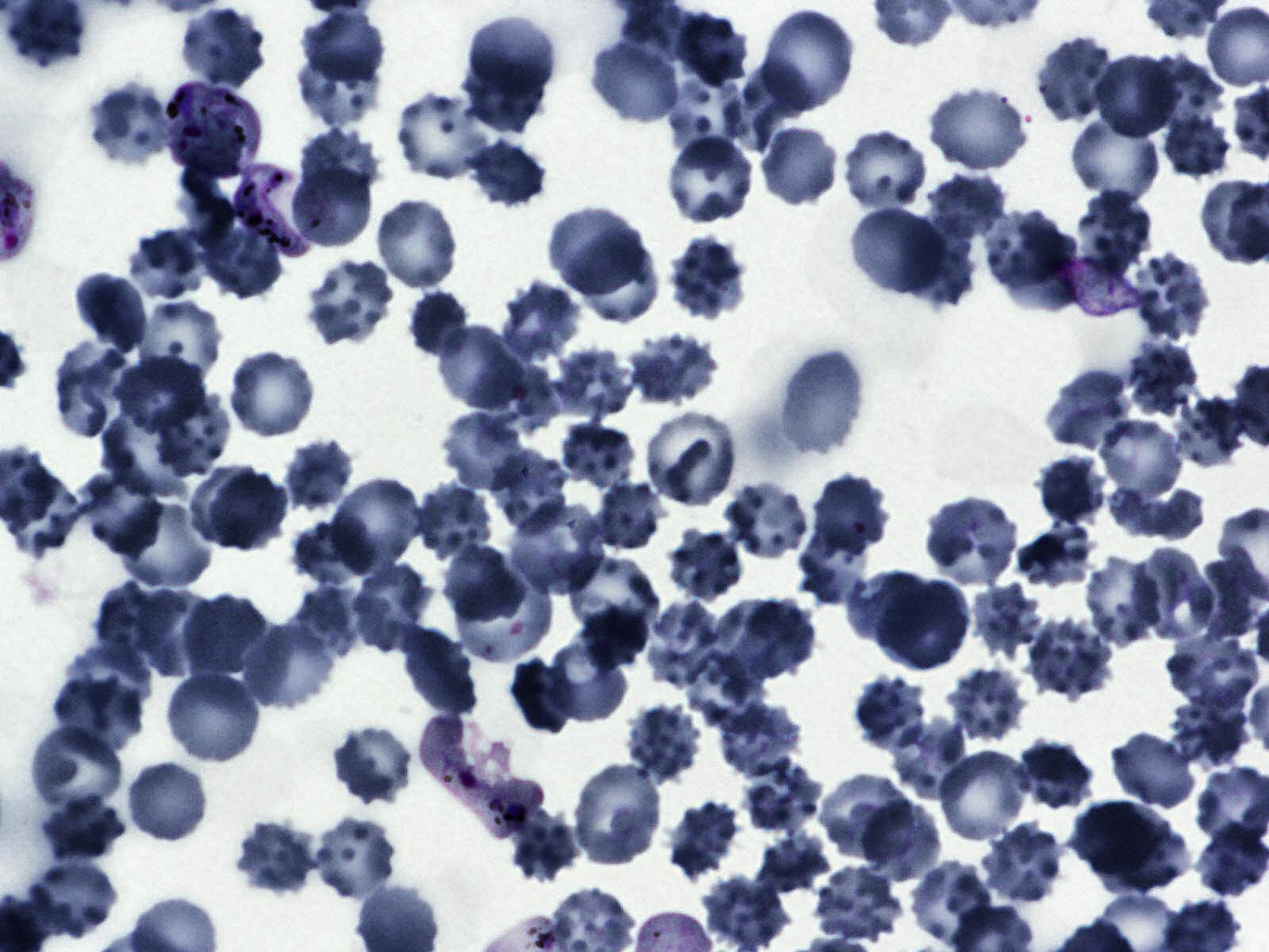Infected: (419, 714, 545, 839), (163, 80, 263, 180), (232, 159, 307, 261)
Uninfected: (757, 7, 858, 115), (568, 762, 668, 869), (934, 748, 1033, 846), (328, 476, 424, 574), (506, 499, 604, 595), (922, 495, 1022, 589), (1068, 109, 1164, 206), (848, 205, 947, 299), (241, 619, 336, 714), (454, 569, 550, 662), (223, 348, 320, 440), (778, 347, 862, 453), (550, 209, 647, 298), (926, 90, 1028, 174), (645, 412, 736, 505), (817, 771, 914, 858), (116, 504, 213, 590), (877, 581, 970, 670), (838, 129, 932, 217), (78, 466, 168, 557), (1078, 555, 1164, 650), (436, 322, 525, 413), (293, 43, 384, 132), (570, 553, 660, 642), (86, 82, 176, 170), (399, 92, 489, 180), (31, 727, 121, 815), (1130, 546, 1210, 644), (1072, 801, 1171, 880), (51, 342, 131, 439), (1166, 630, 1264, 709), (168, 675, 259, 760), (1045, 369, 1136, 454), (907, 862, 996, 948), (1127, 251, 1211, 342), (810, 866, 905, 946), (545, 636, 631, 724), (1091, 55, 1180, 140), (1023, 616, 1115, 698), (1034, 36, 1117, 126), (574, 234, 657, 324), (176, 6, 267, 88), (112, 356, 205, 436), (669, 135, 752, 224), (439, 412, 529, 494), (54, 675, 144, 757), (731, 60, 811, 152), (859, 800, 945, 885), (439, 543, 526, 627), (136, 587, 217, 677), (899, 212, 974, 309), (757, 124, 842, 209), (592, 39, 679, 122), (979, 826, 1068, 907), (184, 593, 268, 678), (100, 414, 186, 497), (888, 717, 970, 804), (151, 390, 232, 478), (27, 858, 117, 937), (1102, 414, 1181, 504), (289, 587, 389, 658), (475, 356, 558, 441), (489, 451, 570, 538), (1095, 821, 1187, 897), (666, 238, 749, 322), (295, 128, 381, 209), (685, 648, 765, 735), (378, 200, 456, 289), (498, 282, 583, 363), (810, 476, 891, 561), (139, 300, 220, 385), (232, 818, 319, 897), (472, 16, 559, 95), (98, 581, 168, 679), (196, 222, 288, 296), (309, 261, 392, 343), (670, 76, 746, 165), (627, 330, 717, 405), (355, 560, 433, 646), (849, 568, 932, 648), (723, 480, 807, 559), (551, 346, 637, 423), (188, 465, 275, 541), (700, 875, 787, 951), (1075, 191, 1156, 272), (715, 601, 797, 681), (1111, 730, 1194, 809), (464, 48, 543, 131), (293, 164, 371, 248), (207, 470, 287, 551), (1138, 55, 1225, 129), (413, 485, 493, 565), (1014, 738, 1096, 816), (70, 271, 148, 353), (126, 228, 209, 305), (738, 759, 822, 835), (944, 670, 1033, 741), (403, 624, 474, 713), (673, 8, 751, 89), (289, 518, 377, 589), (37, 793, 125, 864), (738, 601, 816, 681), (1006, 229, 1077, 316), (1123, 339, 1201, 418), (1169, 394, 1250, 470), (319, 818, 393, 901), (650, 601, 721, 687), (851, 675, 929, 753), (298, 10, 381, 83), (281, 436, 357, 515), (1168, 691, 1248, 766), (1161, 105, 1235, 186), (986, 211, 1063, 288), (721, 702, 799, 778), (67, 645, 152, 714), (505, 808, 580, 886), (131, 761, 205, 838), (924, 173, 1009, 240), (335, 728, 409, 804), (800, 531, 877, 604), (667, 529, 745, 601), (618, 706, 696, 777), (1035, 451, 1104, 531), (556, 420, 634, 490), (466, 139, 548, 205), (1198, 822, 1269, 897), (670, 804, 737, 881), (1016, 523, 1099, 585), (586, 485, 663, 551), (581, 602, 651, 674), (965, 581, 1040, 648), (509, 657, 573, 733), (757, 832, 834, 891), (409, 288, 472, 359)
